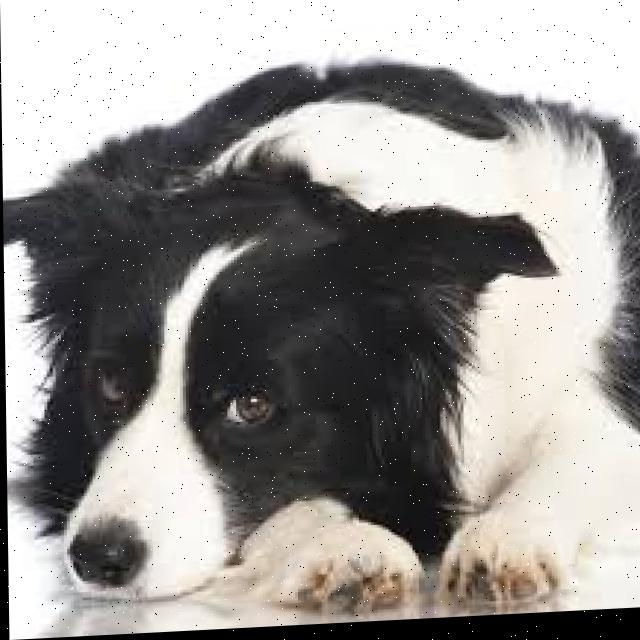BORDER_COLLIE: (1, 44, 640, 640)
